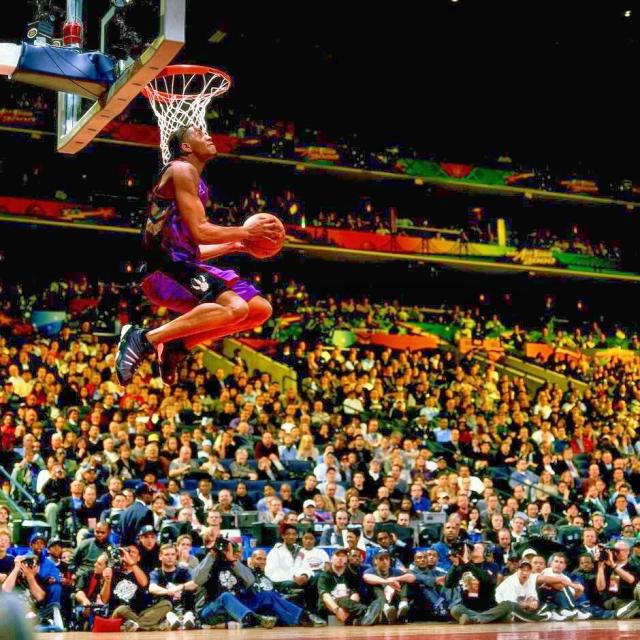rim: (142, 65, 233, 126)
